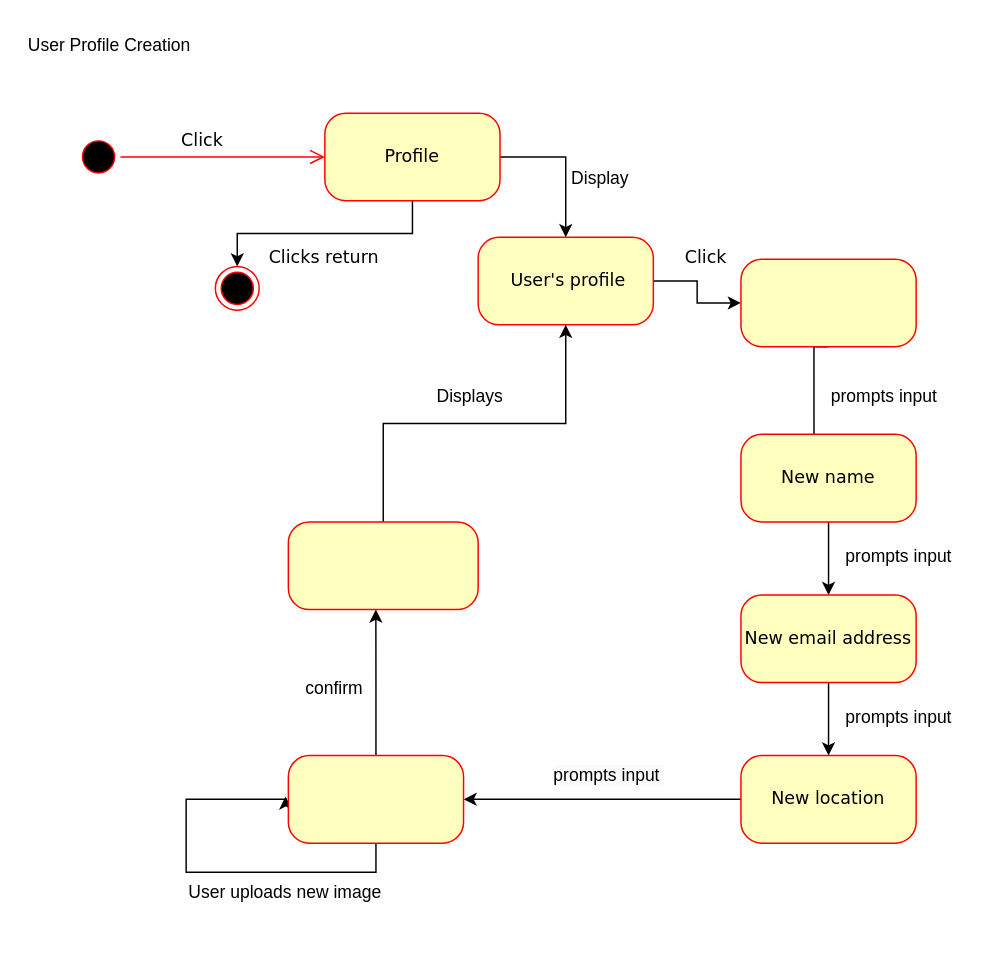
This 984x955 diagram has some shape labels left out. The box of each missing label's shape, as (x1, y1, x2, y2) in pixels:
New profile: (739, 258, 916, 347)
New profile creation: (287, 520, 478, 610)
New profile image: (287, 754, 464, 843)
